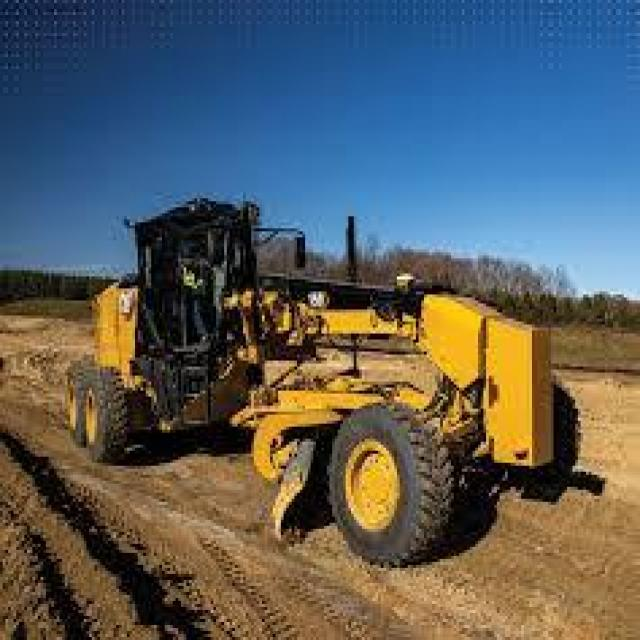Grader: (62, 192, 616, 586)
